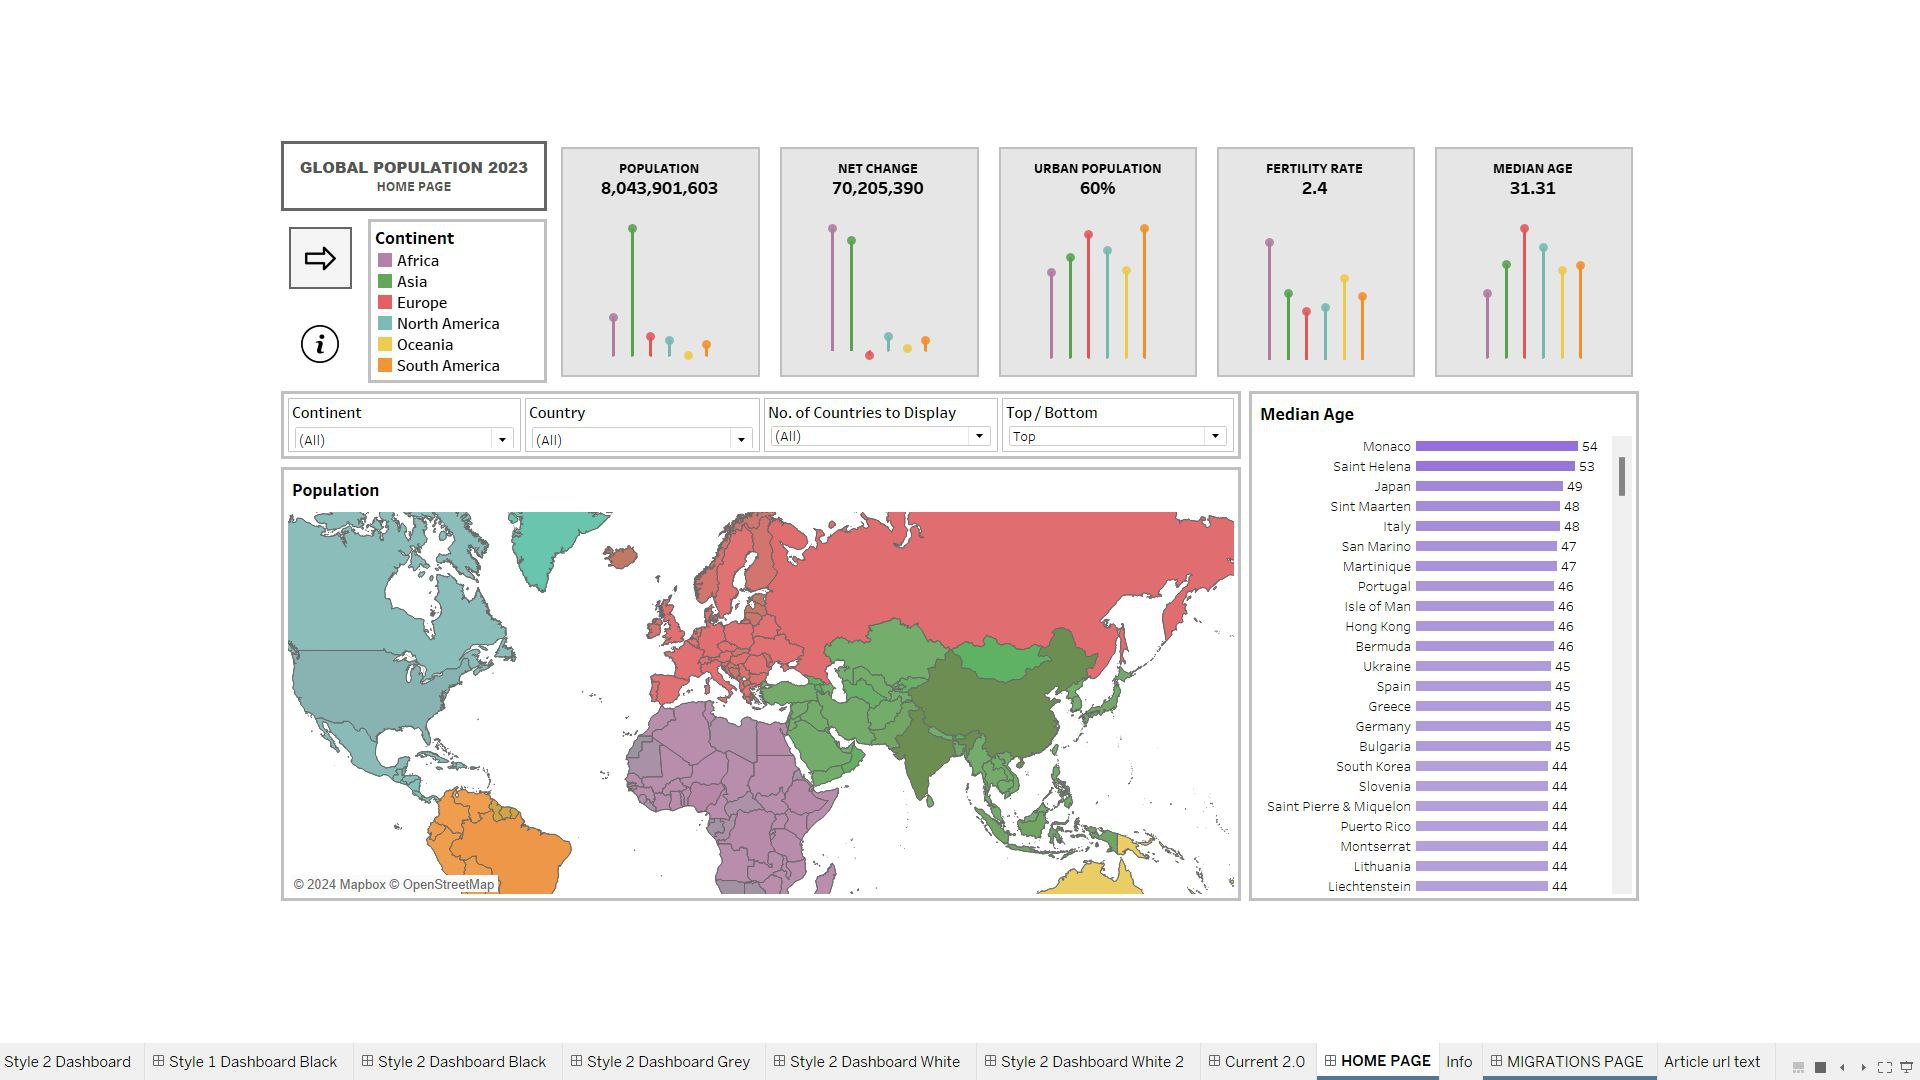

The page's visual inventory and layout, read from the dashboard file:
{"tool":"tableau","page":{"name":"HOME PAGE","canvas":[1366,768],"ordinal":5},"visuals":[{"type":"text","box":[0,0,274,78]},{"type":"blank","box":[291,17,185,60]},{"type":"blank","box":[510,17,185,60]},{"type":"blank","box":[729,17,184,60]},{"type":"blank","box":[947,17,184,74]},{"type":"blank","box":[1165,17,184,60]},{"type":"worksheet","title":"KPI POPULATION (2)","mark":"Automatic","box":[286,22,194,87]},{"type":"worksheet","title":"KPI NET CHANGE","mark":"Automatic","box":[509,22,185,66]},{"type":"worksheet","title":"KPI URBAN POP (2)","mark":"Automatic","box":[729,22,184,78]},{"type":"worksheet","title":"KPI FERT RATE","mark":"Automatic","box":[946,22,184,87]},{"type":"worksheet","title":"KPI MEDIAN AGE (2)","mark":"Automatic","box":[1164,22,184,79]},{"type":"blank","box":[291,77,32,156]},{"type":"worksheet","title":"Lollipop Bar Continent Population","mark":"Bar","rows":["Population (2023)"],"cols":["Calculation_705376329549299717"],"box":[323,77,121,156]},{"type":"blank","box":[444,77,32,156]},{"type":"blank","box":[510,77,32,156]},{"type":"worksheet","title":"Lollipop Bar Continent Net Change %","mark":"Bar","rows":["Calculation_7881342882164737"],"cols":["Calculation_705376329549299717"],"box":[542,77,121,156]},{"type":"blank","box":[663,77,32,156]},{"type":"blank","box":[729,77,32,156]},{"type":"worksheet","title":"Lollipop Bar Continent Urban Popultaion %","mark":"Bar","rows":["Urban Pop %"],"cols":["Calculation_705376329549299717"],"box":[761,77,120,156]},{"type":"blank","box":[881,77,32,156]},{"type":"blank","box":[1165,77,32,156]},{"type":"worksheet","title":"Lollipop Bar Continent Med Age","mark":"Bar","rows":["Med. Age"],"cols":["Calculation_705376329549299717"],"box":[1197,77,120,156]},{"type":"blank","box":[1317,77,32,156]},{"type":"dashboard-object","box":[0,78,87,86]},{"type":"legend","title":"Lollipop Bar Continent Population","param":"[federated.15nkbg51hgcz551290y810k430ke].[none:Calculation_705376329549299717:nk","box":[87,78,187,172]},{"type":"blank","box":[947,91,32,142]},{"type":"worksheet","title":"Lollipop Bar Continent Fert Rate","mark":"Bar","rows":["Fert. Rate"],"cols":["Calculation_705376329549299717"],"box":[979,91,120,142]},{"type":"blank","box":[1099,91,32,142]},{"type":"worksheet","title":"Info","mark":"Shape","rows":["Calculation_2266155090282577925"],"box":[0,164,87,86]},{"type":"worksheet","title":"Bar (Median Age)","mark":"Automatic","rows":["Country (or dependency)"],"cols":["Med. Age"],"box":[968.3,250,397.7,518]},{"type":"filter","title":"Bar (Median Age)","param":"[federated.15nkbg51hgcz551290y810k430ke].[none:Calculation_705376329549299717:nk","box":[7,257,239,62]},{"type":"filter","title":"Bar (Median Age)","param":"[federated.15nkbg51hgcz551290y810k430ke].[none:Country (or dependency):nk]","box":[246,257,239,62]},{"type":"parameter","param":"[Parameters].[Parameter 2]","box":[485,257,238,62]},{"type":"parameter","param":"[Parameters].[Parameter 3]","box":[723,257,238,62]},{"type":"worksheet","title":"Map (Population) (2)","mark":"Multipolygon","box":[0,326,968.3,442]}]}

Visuals, with their boxes on the page's 1366x768 design canvas (x1, y1, x2, y2). These are canvas units, not pixel positions in the 1920x1080 screenshot, which may show the page scaled, cropped or inside an application window:
text: BBox(0, 0, 274, 78)
blank: BBox(291, 17, 476, 77)
blank: BBox(510, 17, 695, 77)
blank: BBox(729, 17, 913, 77)
blank: BBox(947, 17, 1131, 91)
blank: BBox(1165, 17, 1349, 77)
"KPI POPULATION (2)" worksheet: BBox(286, 22, 480, 109)
"KPI NET CHANGE" worksheet: BBox(509, 22, 694, 88)
"KPI URBAN POP (2)" worksheet: BBox(729, 22, 913, 100)
"KPI FERT RATE" worksheet: BBox(946, 22, 1130, 109)
"KPI MEDIAN AGE (2)" worksheet: BBox(1164, 22, 1348, 101)
blank: BBox(291, 77, 323, 233)
"Lollipop Bar Continent Population" worksheet (Bar marks): BBox(323, 77, 444, 233)
blank: BBox(444, 77, 476, 233)
blank: BBox(510, 77, 542, 233)
"Lollipop Bar Continent Net Change %" worksheet (Bar marks): BBox(542, 77, 663, 233)
blank: BBox(663, 77, 695, 233)
blank: BBox(729, 77, 761, 233)
"Lollipop Bar Continent Urban Popultaion %" worksheet (Bar marks): BBox(761, 77, 881, 233)
blank: BBox(881, 77, 913, 233)
blank: BBox(1165, 77, 1197, 233)
"Lollipop Bar Continent Med Age" worksheet (Bar marks): BBox(1197, 77, 1317, 233)
blank: BBox(1317, 77, 1349, 233)
dashboard-object: BBox(0, 78, 87, 164)
"Lollipop Bar Continent Population" legend: BBox(87, 78, 274, 250)
blank: BBox(947, 91, 979, 233)
"Lollipop Bar Continent Fert Rate" worksheet (Bar marks): BBox(979, 91, 1099, 233)
blank: BBox(1099, 91, 1131, 233)
"Info" worksheet (Shape marks): BBox(0, 164, 87, 250)
"Bar (Median Age)" worksheet: BBox(968, 250, 1366, 768)
"Bar (Median Age)" filter: BBox(7, 257, 246, 319)
"Bar (Median Age)" filter: BBox(246, 257, 485, 319)
parameter: BBox(485, 257, 723, 319)
parameter: BBox(723, 257, 961, 319)
"Map (Population) (2)" worksheet (Multipolygon marks): BBox(0, 326, 968, 768)
